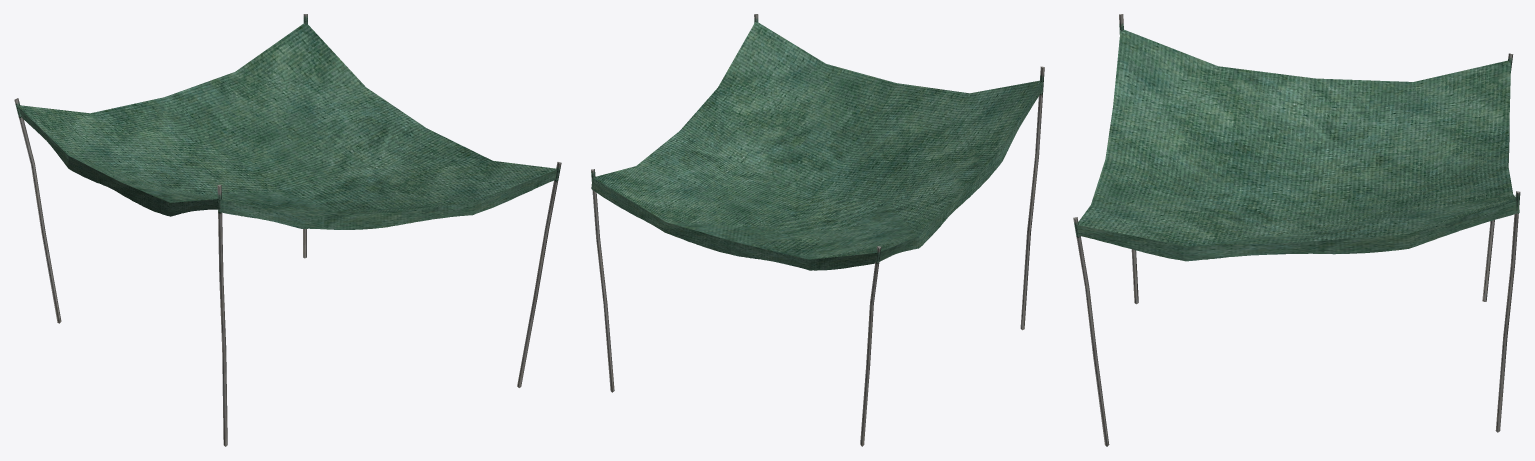
Rendered from poi_nboo_tent_small_l1.fbx.
3 renders of one model, left to right at view 1: azimuth 30°, elevation 25°; view 2: azimuth 150°, elevation 25°; view 3: azimuth 270°, elevation 25°, orthographic. The views are drawn at different scales.
Parts seen in each view (by area): view 1: mesh_node; view 2: mesh_node; view 3: mesh_node.
Boxes of the visible parts, x1=… form: mesh_node: x1=14, y1=14, x2=561, y2=446; mesh_node: x1=591, y1=14, x2=1044, y2=446; mesh_node: x1=1073, y1=14, x2=1520, y2=446.
Bounding box in the file's own units: 4.85 × 3.69 × 5.3.
